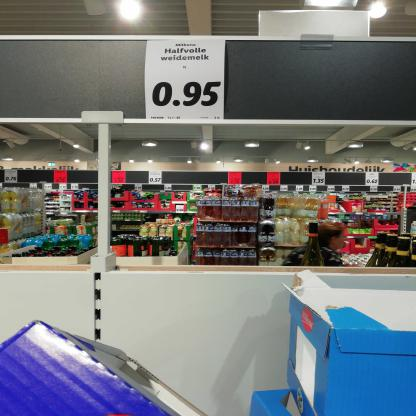prtg: (145, 40, 227, 121)
